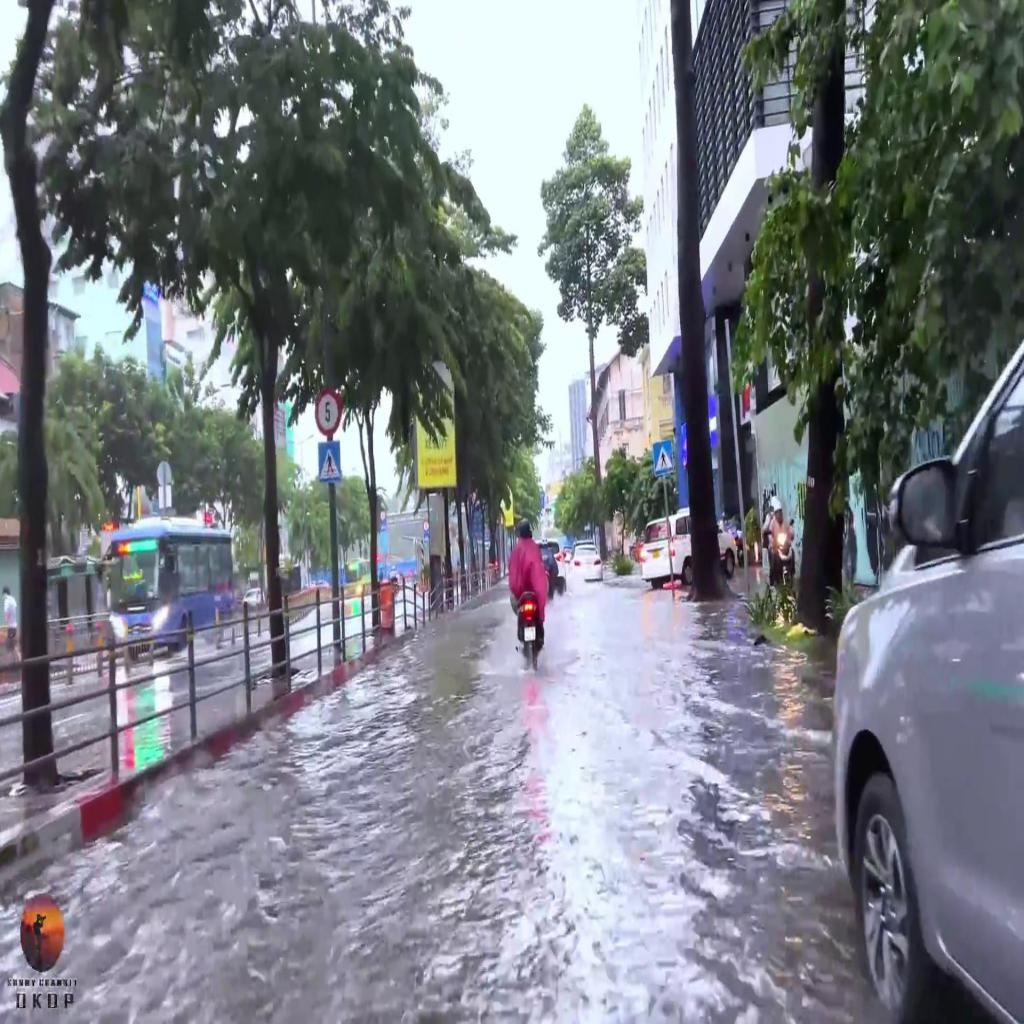duong_nguoi_di_bo_sang_ngang: (318, 441, 341, 482), (652, 441, 674, 477)
khac: (315, 386, 342, 437)
